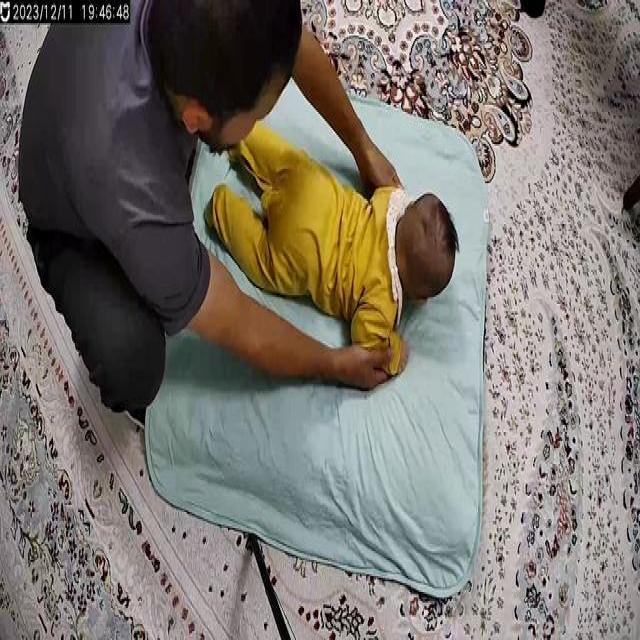baby: (202, 98, 460, 388)
